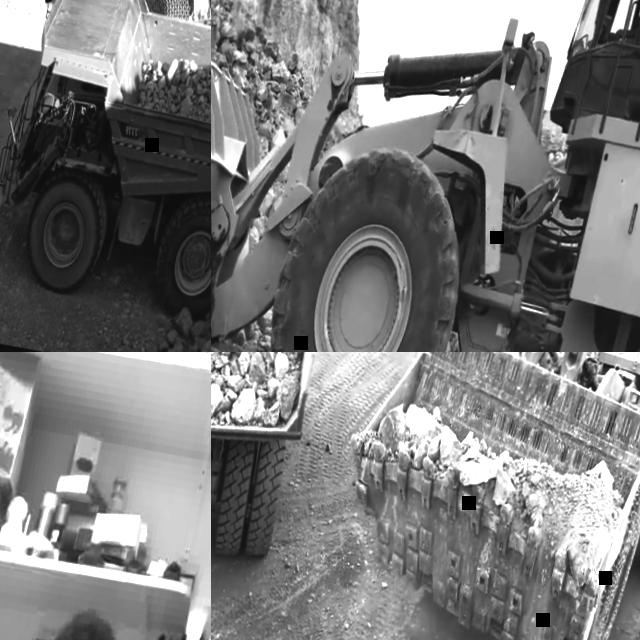NO-Hardhat: (46, 608, 128, 640)
Person: (627, 0, 640, 44)
machinery: (211, 0, 640, 352), (306, 352, 640, 640), (0, 0, 211, 341), (211, 352, 359, 603)
